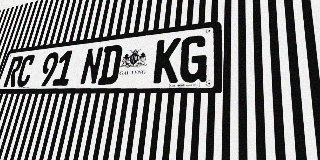1: (52, 50, 76, 86)
9: (38, 51, 60, 86)
C: (15, 54, 36, 87)
D: (97, 44, 123, 85)
G: (178, 34, 208, 83)
K: (153, 37, 181, 83)
N: (79, 46, 104, 85)
R: (3, 56, 24, 87)
